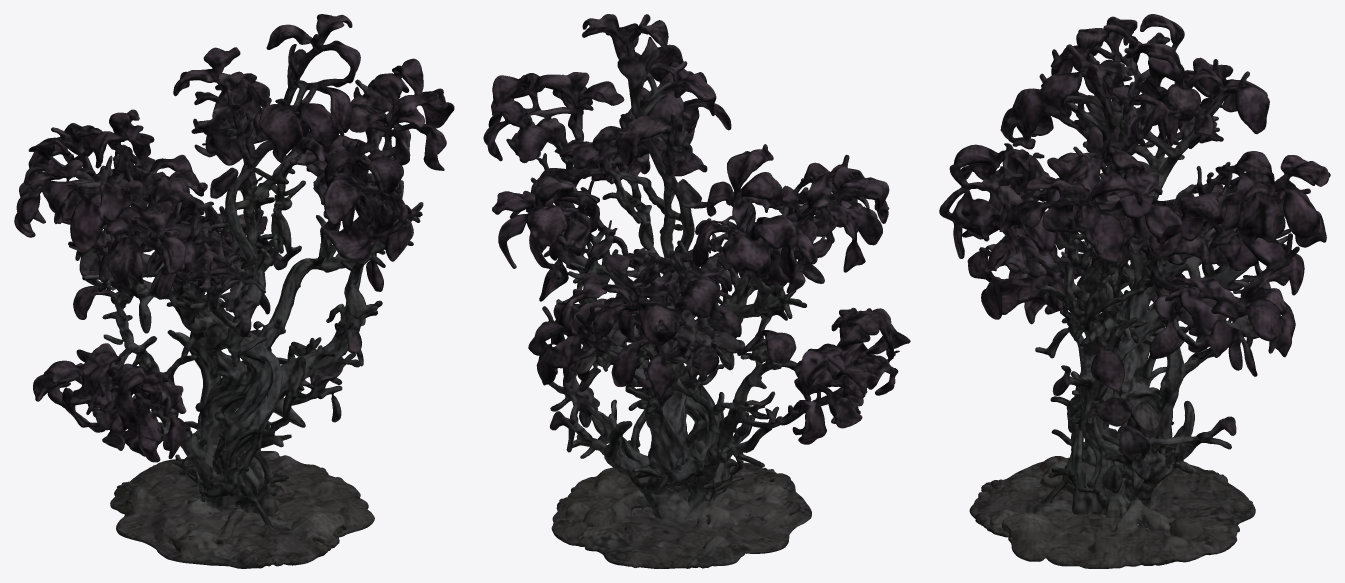
The model's file is toxic_shrub.glb.
3 renders of one model, left to right at view 1: azimuth 30°, elevation 25°; view 2: azimuth 150°, elevation 25°; view 3: azimuth 270°, elevation 25°, orthographic. The views are drawn at different scales.
Parts seen in each view (by area): view 1: world; view 2: world; view 3: world.
Part boxes in pixels (x1,y1,x2,y2): world: (14,14,454,568); world: (483,14,910,568); world: (939,14,1330,568).
Bounding box in the file's own units: 0.8131 × 0.9 × 0.6377.
Materials: 1 (1 with a texture image).
